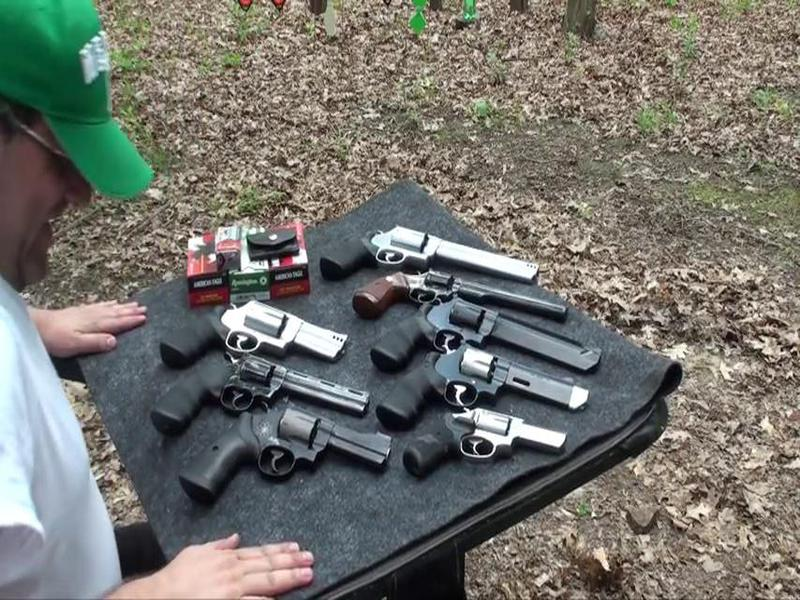Revolver: (184, 405, 385, 505), (364, 298, 598, 374), (364, 341, 597, 414), (338, 254, 571, 324), (152, 355, 369, 429), (138, 294, 353, 368), (328, 214, 537, 285), (409, 402, 561, 480)
